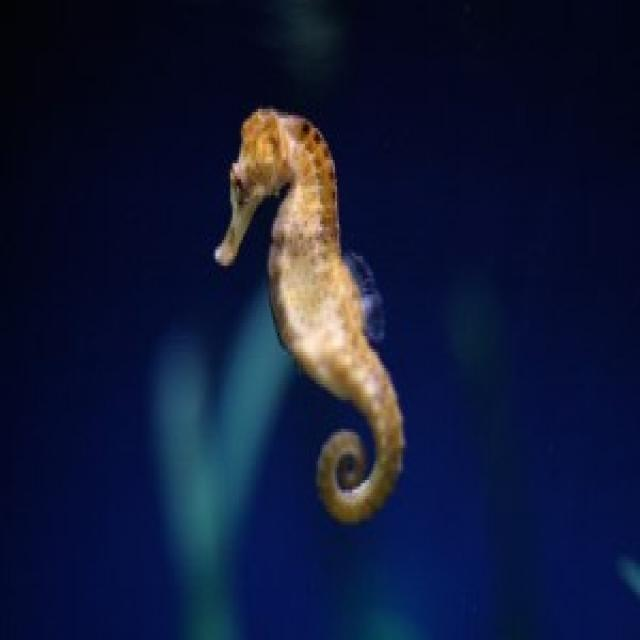Seahorse: (197, 101, 407, 532)
